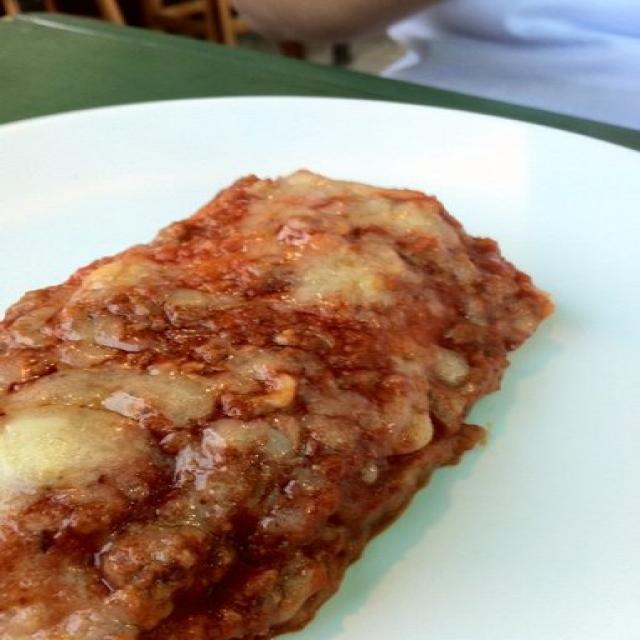Lasagna: (12, 153, 553, 612)
